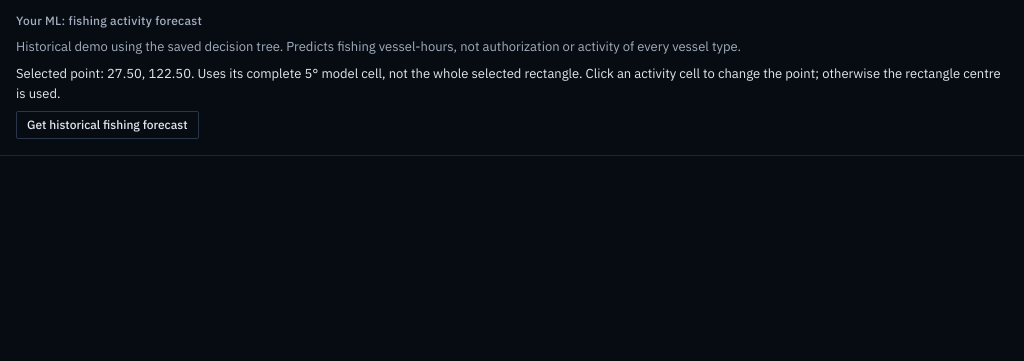
Test case: shows the existing model forecast with its own dates
What coordinates should you click on to do the following:
click the button "Get historical fishing forecast"
I would click on:
 (107, 125)
Its box is [16,111,198,139].
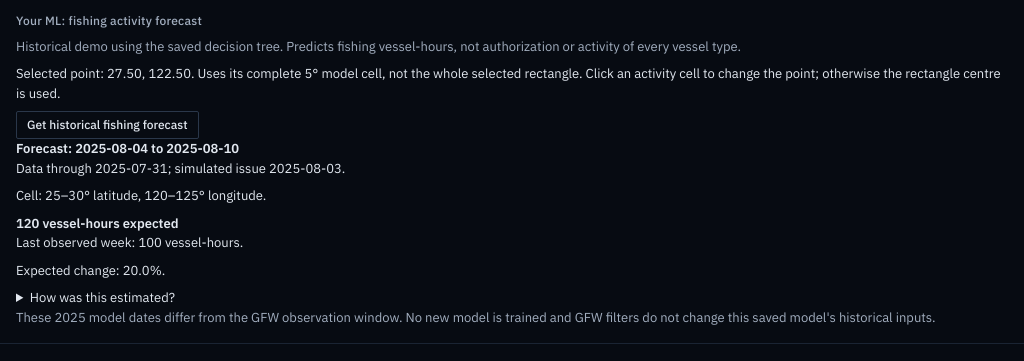
Result: the text "120 vessel-hours expected" is shown at [16,215,178,232]
Result: the text "Forecast: 2025-08-04 to 2025-08-10" is shown at [16,140,239,157]
Result: the text "Expected change: 20.0%." is shown at [16,262,165,279]
